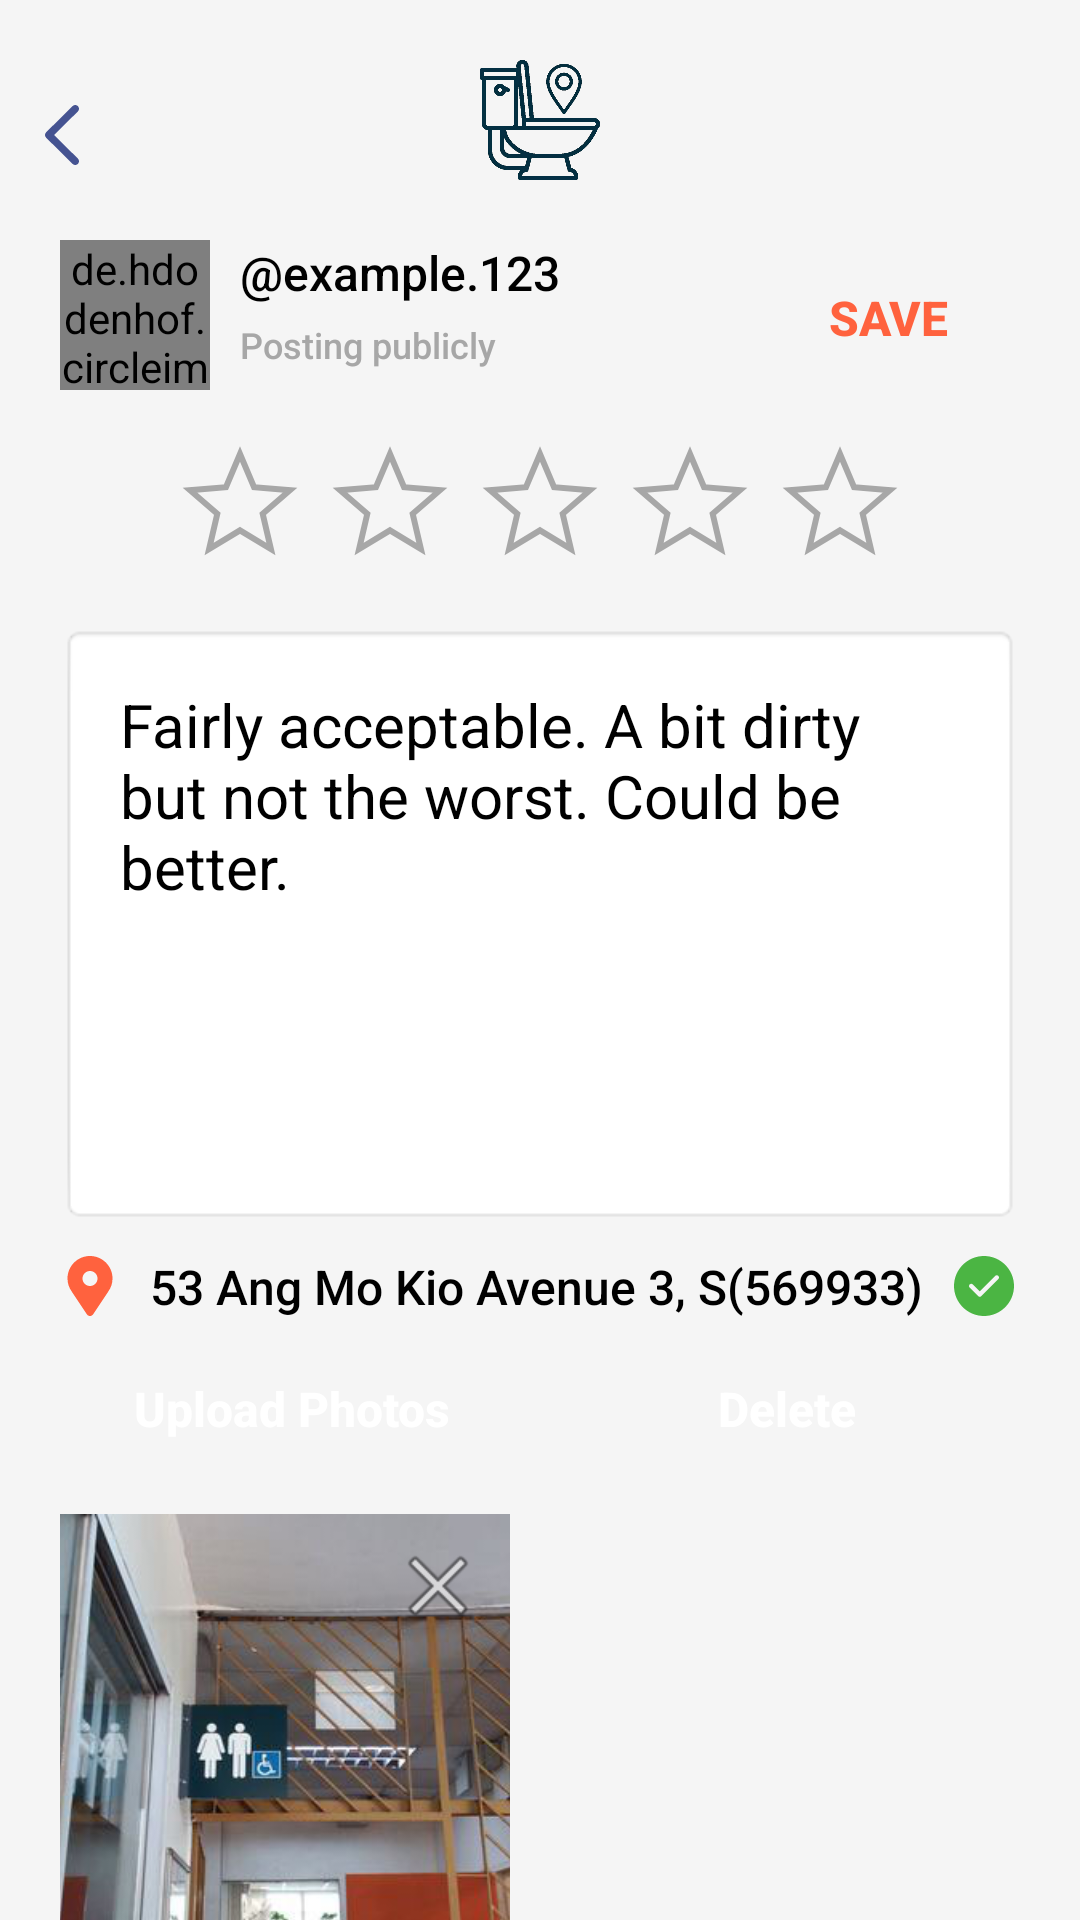

Named icons in this screenshot (1080 × 1920) and their centers, (x,y):
Back: (62,135)
toilet review star: (240,501), (390,501), (540,501), (690,501), (840,501)
